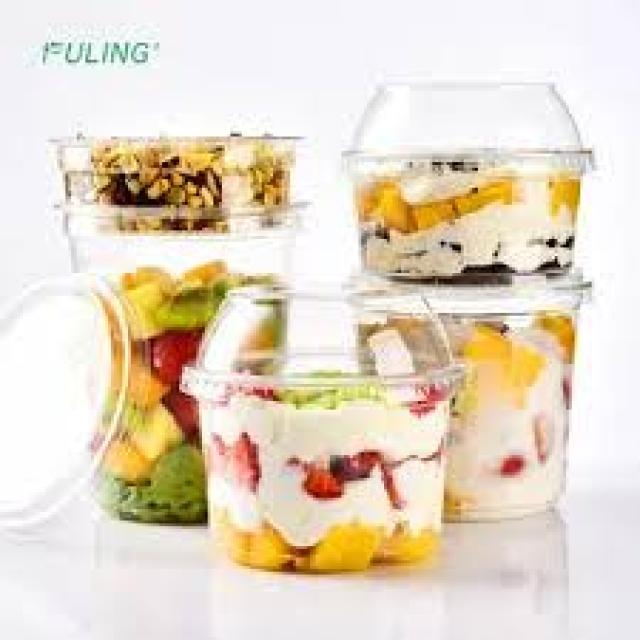disposable: (189, 263, 474, 591)
